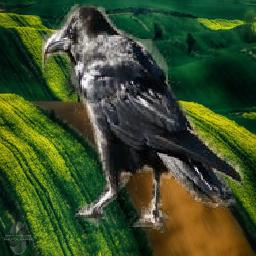Crow: (42, 2, 244, 237)
